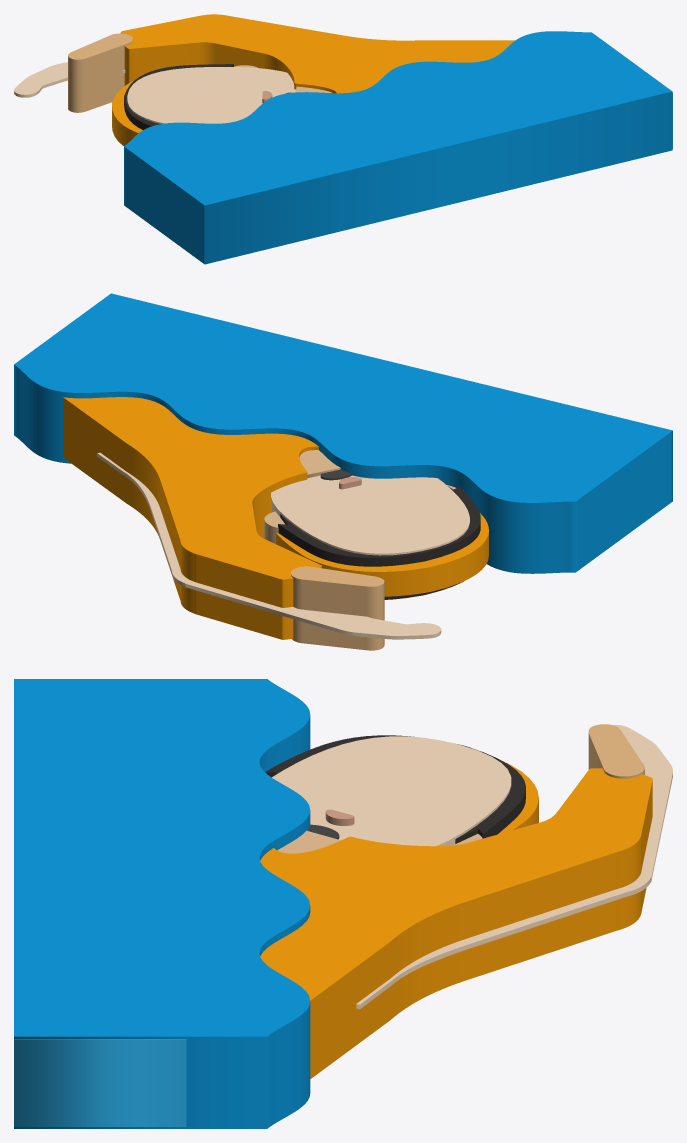
File: emoji_u1f3ca_1f3fb.glb
3 renders of one model, top to bottom at view 1: azimuth 30°, elevation 25°; view 2: azimuth 150°, elevation 25°; view 3: azimuth 270°, elevation 25°, orthographic. The views are drawn at different scales.
Parts seen in each view (by area): view 1: emoji_u1f3ca_1f3fb; view 2: emoji_u1f3ca_1f3fb; view 3: emoji_u1f3ca_1f3fb.
Part boxes in pixels (x1=…): emoji_u1f3ca_1f3fb: x1=14, y1=14, x2=672, y2=264; emoji_u1f3ca_1f3fb: x1=14, y1=293, x2=672, y2=650; emoji_u1f3ca_1f3fb: x1=14, y1=679, x2=672, y2=1128.
Size of the model in its own units: 0.0332 by 0.004 by 0.0258.
